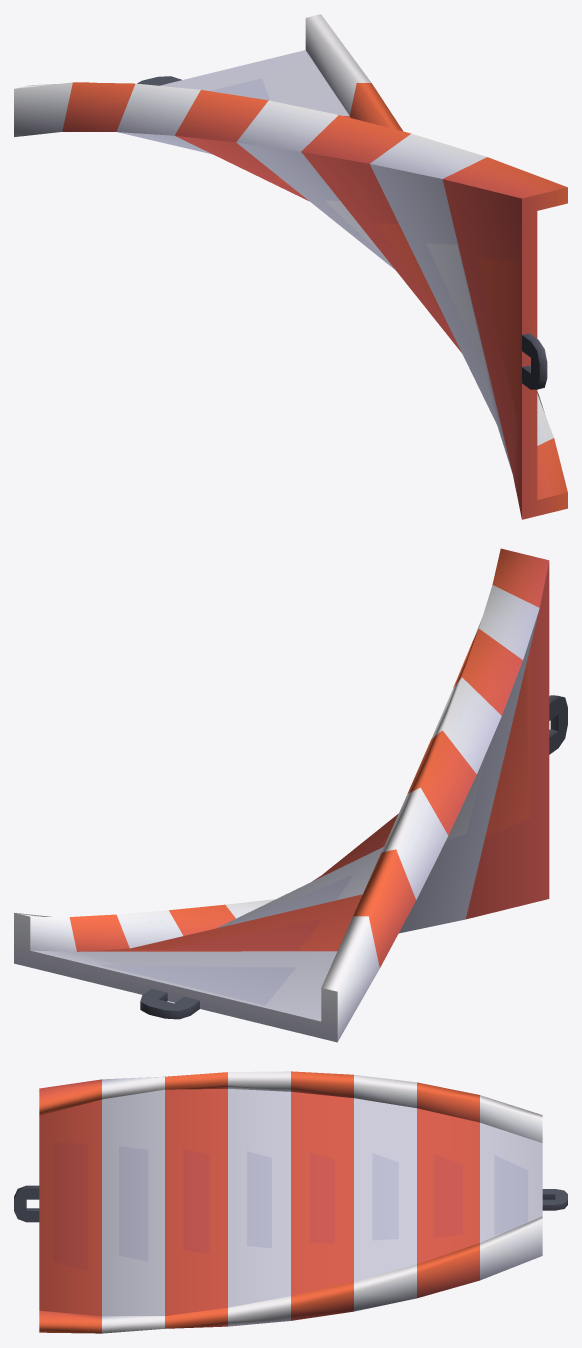
Rendered from track-striped-wide-straight-skew-left-side.glb.
3 views of the same model, one above another, from view 1: azimuth 30°, elevation 25°; view 2: azimuth 150°, elevation 25°; view 3: azimuth 270°, elevation 25° (orthographic). The views are drawn at different scales.
Visible parts, largest first — view 1: track-striped-wide-straight-skew-left-side; view 2: track-striped-wide-straight-skew-left-side; view 3: track-striped-wide-straight-skew-left-side.
Boxes of the visible parts, x1,y1,x2,y2 form: track-striped-wide-straight-skew-left-side: (14, 14, 567, 519); track-striped-wide-straight-skew-left-side: (14, 548, 567, 1042); track-striped-wide-straight-skew-left-side: (14, 1071, 567, 1333).
Bounding box in the file's own units: 2.04 × 2.04 × 4.4.
Materials: 1 (1 with a texture image).
